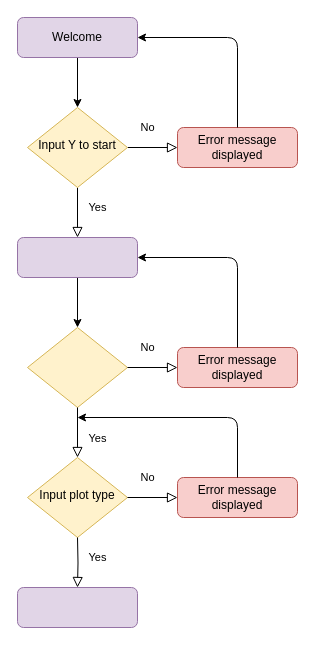
Some shapes in this 315 by 645 pixel diagram are drawn without their labels. The shapes that lost their labels are listed below. From the top down, each one's centre as x and y in pixels, then its label:
(x=77, y=257): Run calculations and update worksheet
(x=77, y=367): Input y-plot column
(x=77, y=607): Plot output
